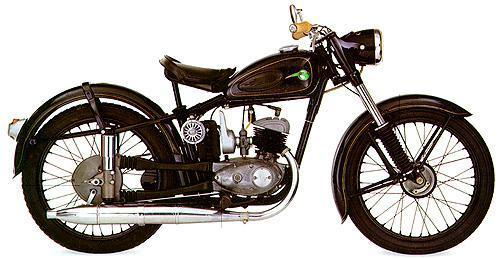motorcycle: (5, 2, 500, 259)
